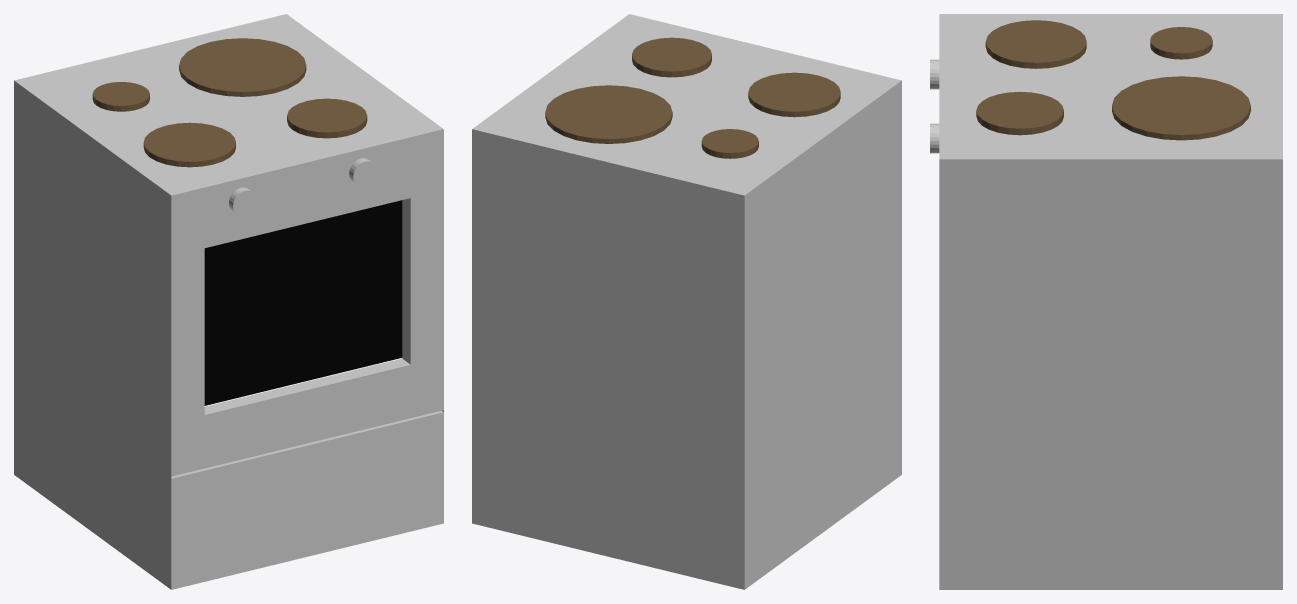
Rendered from sweethome3d-contributions-cooker-146.glb.
The picture shows the model from 3 angles, left to right: view 1: azimuth 30°, elevation 25°; view 2: azimuth 150°, elevation 25°; view 3: azimuth 270°, elevation 25°; orthographic projection. The views are drawn at different scales.
Visible parts, largest first — view 1: range_Sobe_INOXs.002, range_Sobe_monitor, range_Sobe_Zi; view 2: range_Sobe_INOXs.002, range_Sobe_Zi; view 3: range_Sobe_INOXs.002, range_Sobe_Zi.
Part boxes in pixels (x1,y1,x2,y2): range_Sobe_INOXs.002: (14, 14, 443, 589); range_Sobe_monitor: (204, 200, 402, 405); range_Sobe_Zi: (92, 38, 367, 167); range_Sobe_INOXs.002: (472, 14, 901, 589); range_Sobe_Zi: (545, 37, 840, 158); range_Sobe_INOXs.002: (930, 14, 1282, 589); range_Sobe_Zi: (976, 20, 1250, 140).
Size of the model in its own units: 0.6 by 0.8422 by 0.616.
